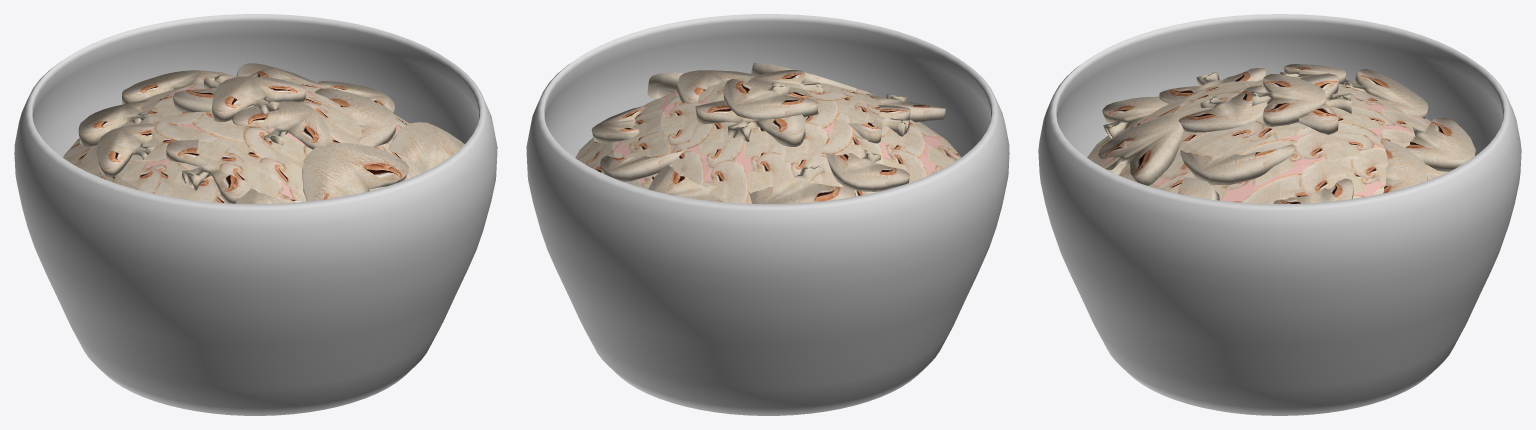
The model's file is mushroom_bowl.fbx.
The picture shows the model from 3 angles, left to right: view 1: azimuth 30°, elevation 25°; view 2: azimuth 150°, elevation 25°; view 3: azimuth 270°, elevation 25°; orthographic projection.
Parts seen in each view (by area): view 1: Sphere, Sphere.001, mushroom.007, mushroom.004, mushroom.012, mushroom.011, mushroom.005, mushroom.002, mushroom.003, mushroom.006, mushroom.009, mushroom.010 (+3 smaller); view 2: Sphere, Sphere.001, mushroom.004, mushroom.010, mushroom.003, mushroom.006, mushroom, mushroom.009, mushroom.005, mushroom.002, mushroom.001, mushroom.012 (+3 smaller); view 3: Sphere, Sphere.001, mushroom.007, mushroom.004, mushroom.005, mushroom.009, mushroom.012, mushroom.006, mushroom.010, mushroom, mushroom.008, mushroom.002 (+3 smaller).
Part boxes in pixels (bbox=[...]): Sphere: bbox=[14, 14, 497, 415]; Sphere.001: bbox=[63, 77, 420, 203]; mushroom.007: bbox=[302, 142, 408, 201]; mushroom.004: bbox=[211, 76, 305, 121]; mushroom.012: bbox=[232, 101, 329, 149]; mushroom.011: bbox=[389, 122, 464, 173]; mushroom.005: bbox=[314, 88, 396, 147]; mushroom.002: bbox=[166, 139, 252, 203]; mushroom.003: bbox=[96, 123, 156, 177]; mushroom.006: bbox=[78, 99, 150, 146]; mushroom.009: bbox=[122, 70, 235, 104]; mushroom.010: bbox=[173, 68, 282, 112]; Sphere: bbox=[526, 14, 1009, 415]; Sphere.001: bbox=[575, 76, 960, 203]; mushroom.004: bbox=[723, 79, 818, 119]; mushroom.010: bbox=[695, 100, 805, 146]; mushroom.003: bbox=[826, 150, 909, 191]; mushroom.006: bbox=[748, 163, 855, 203]; mushroom: bbox=[600, 150, 684, 181]; mushroom.009: bbox=[648, 165, 723, 202]; mushroom.005: bbox=[676, 70, 758, 103]; mushroom.002: bbox=[848, 105, 910, 143]; mushroom.001: bbox=[591, 106, 644, 143]; mushroom.012: bbox=[748, 70, 823, 100]; Sphere: bbox=[1038, 14, 1521, 415]; Sphere.001: bbox=[1087, 76, 1448, 203]; mushroom.007: bbox=[1098, 115, 1184, 185]; mushroom.004: bbox=[1251, 74, 1325, 126]; mushroom.005: bbox=[1180, 144, 1295, 184]; mushroom.009: bbox=[1405, 118, 1475, 171]; mushroom.012: bbox=[1178, 85, 1267, 132]; mushroom.006: bbox=[1343, 69, 1428, 118]; mushroom.010: bbox=[1267, 73, 1351, 134]; mushroom: bbox=[1381, 138, 1427, 193]; mushroom.008: bbox=[1102, 96, 1168, 138]; mushroom.002: bbox=[1159, 68, 1267, 103].
Size of the model in its own units: 39.86 by 23.22 by 39.86.
Materials: 15 (14 with a texture image).
